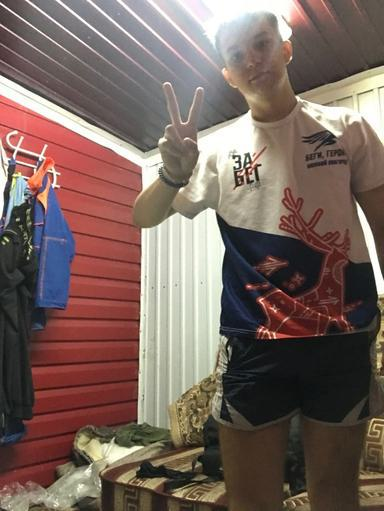peace: (154, 80, 207, 183)
